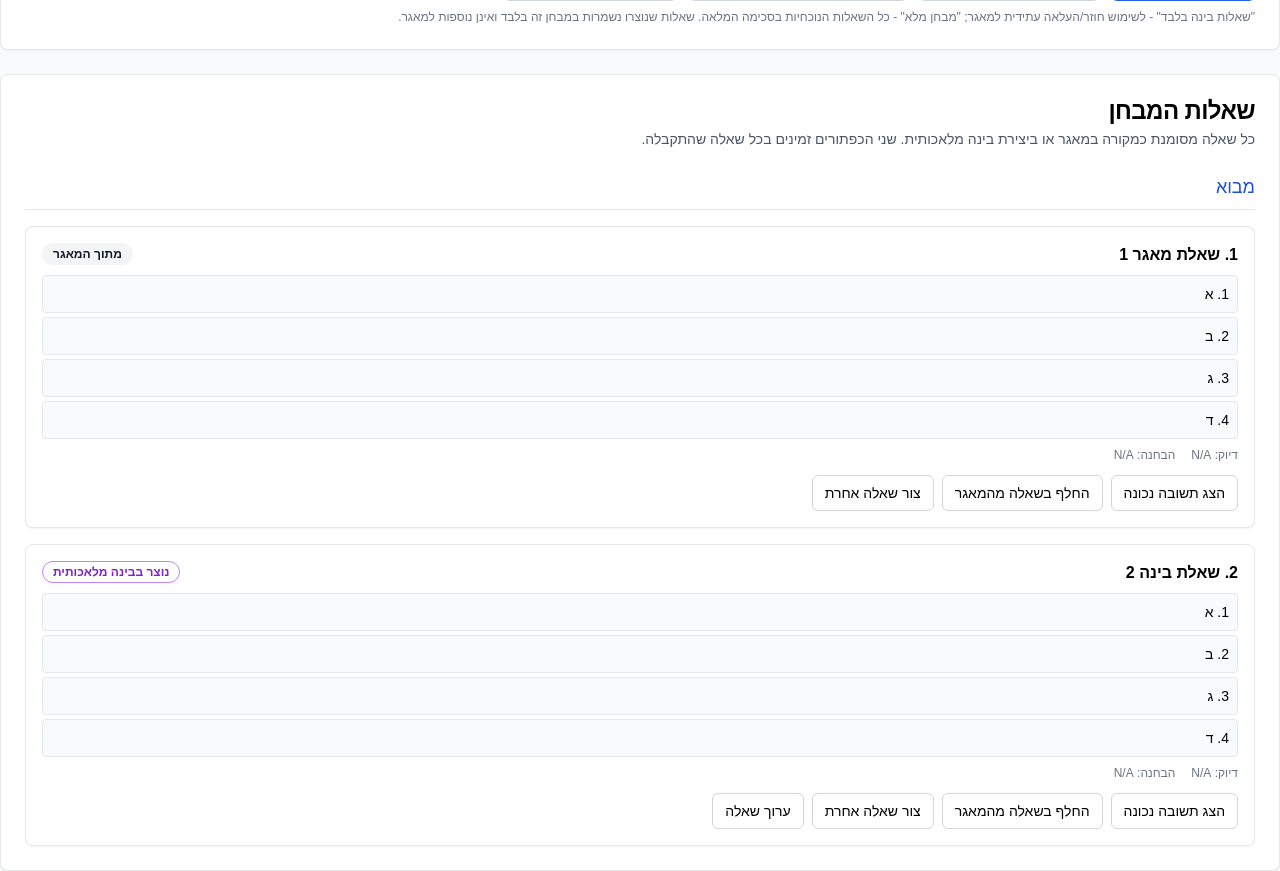
it: WP31 Part C - network/CORS failure shows the Hebrew message › a rejected PATCH carrying the network-error message shows it, not a raw browser error
(page scrolled)
Expected: the text "1. שאלת מאגר 1" is shown, [1119,246,1238,263]
Click the button with test id "edit-question-button" at {"x": 758, "y": 811}, box [712,793,804,829]
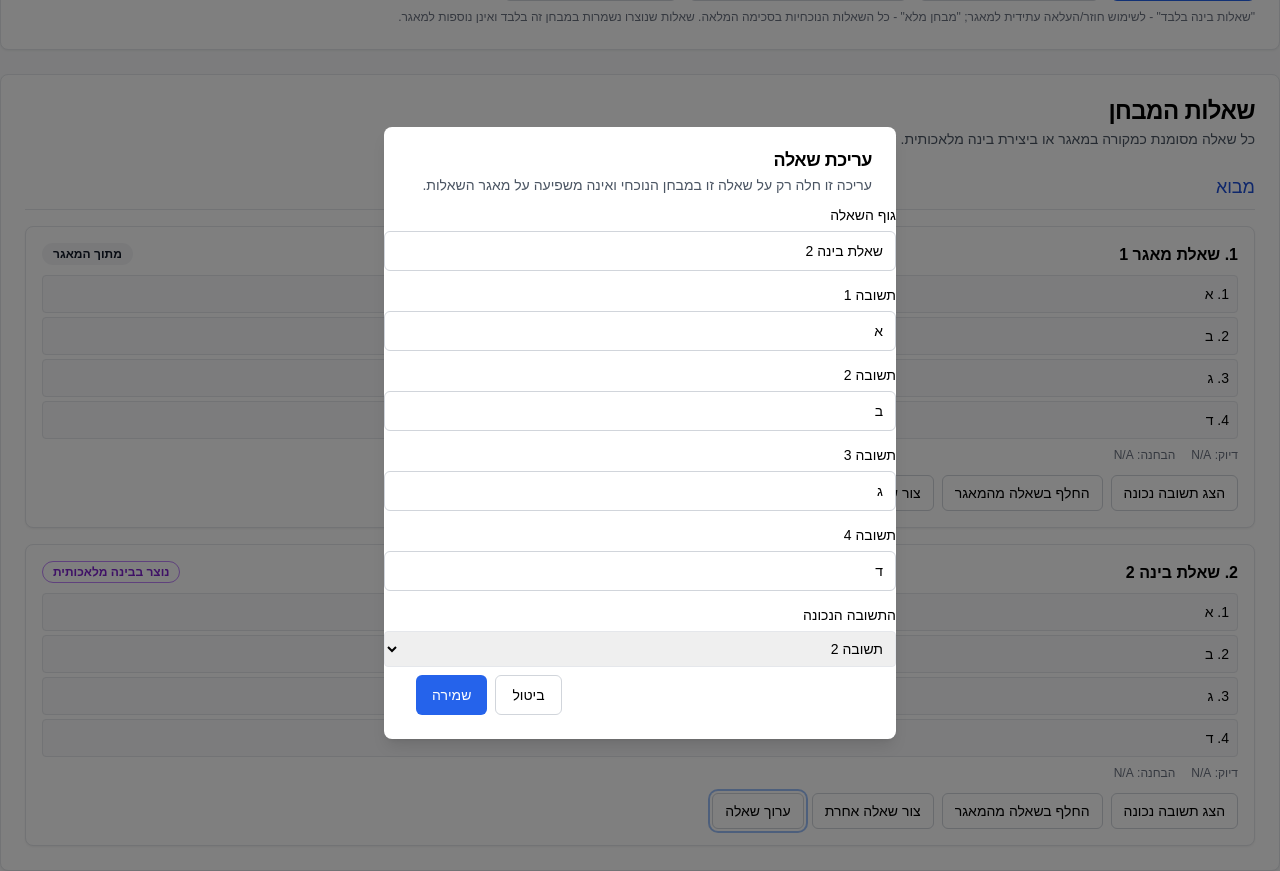
Click the button "שמירה" at {"x": 452, "y": 695}, box [416,675,487,715]
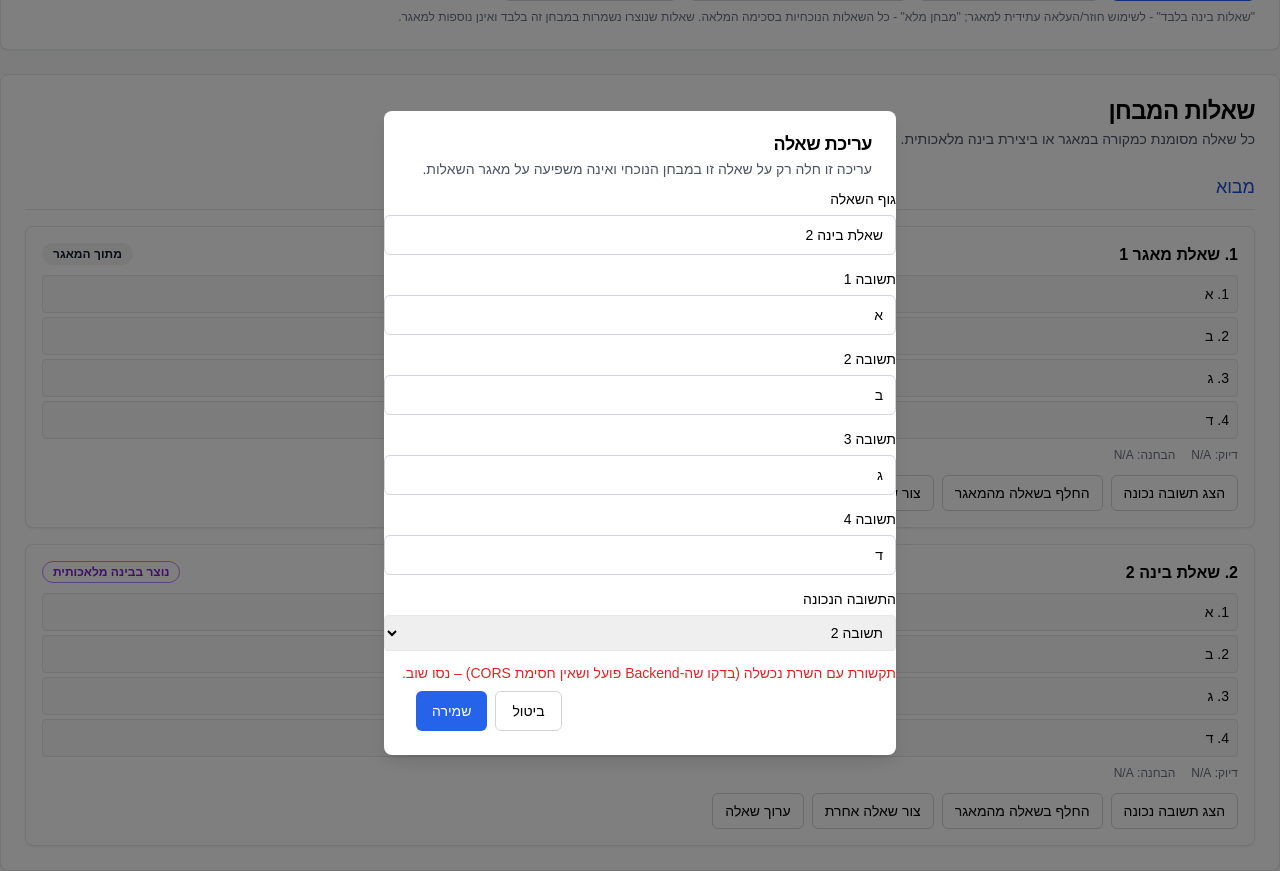
Expected: the message reads "תקשורת עם השרת נכשלה (בדקו שה-Backend פועל ושאין חסימת CORS) – נסו שוב.", [402,665,896,681]
